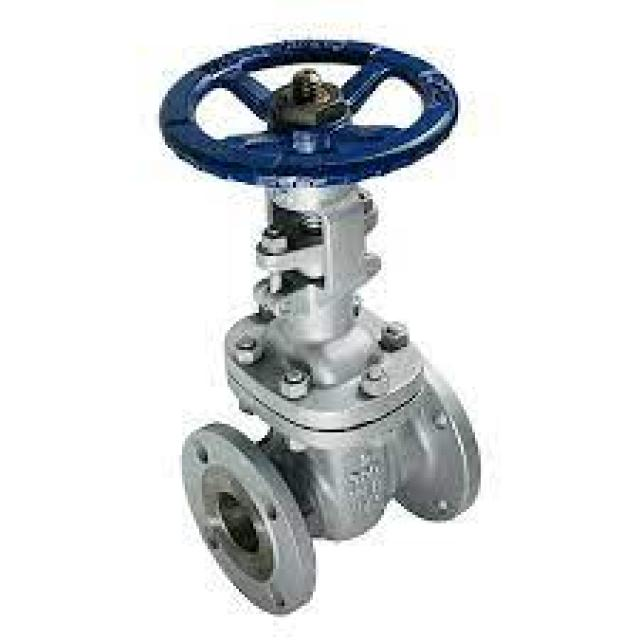Wheel Handle Valve Threaded: (142, 20, 466, 193)
